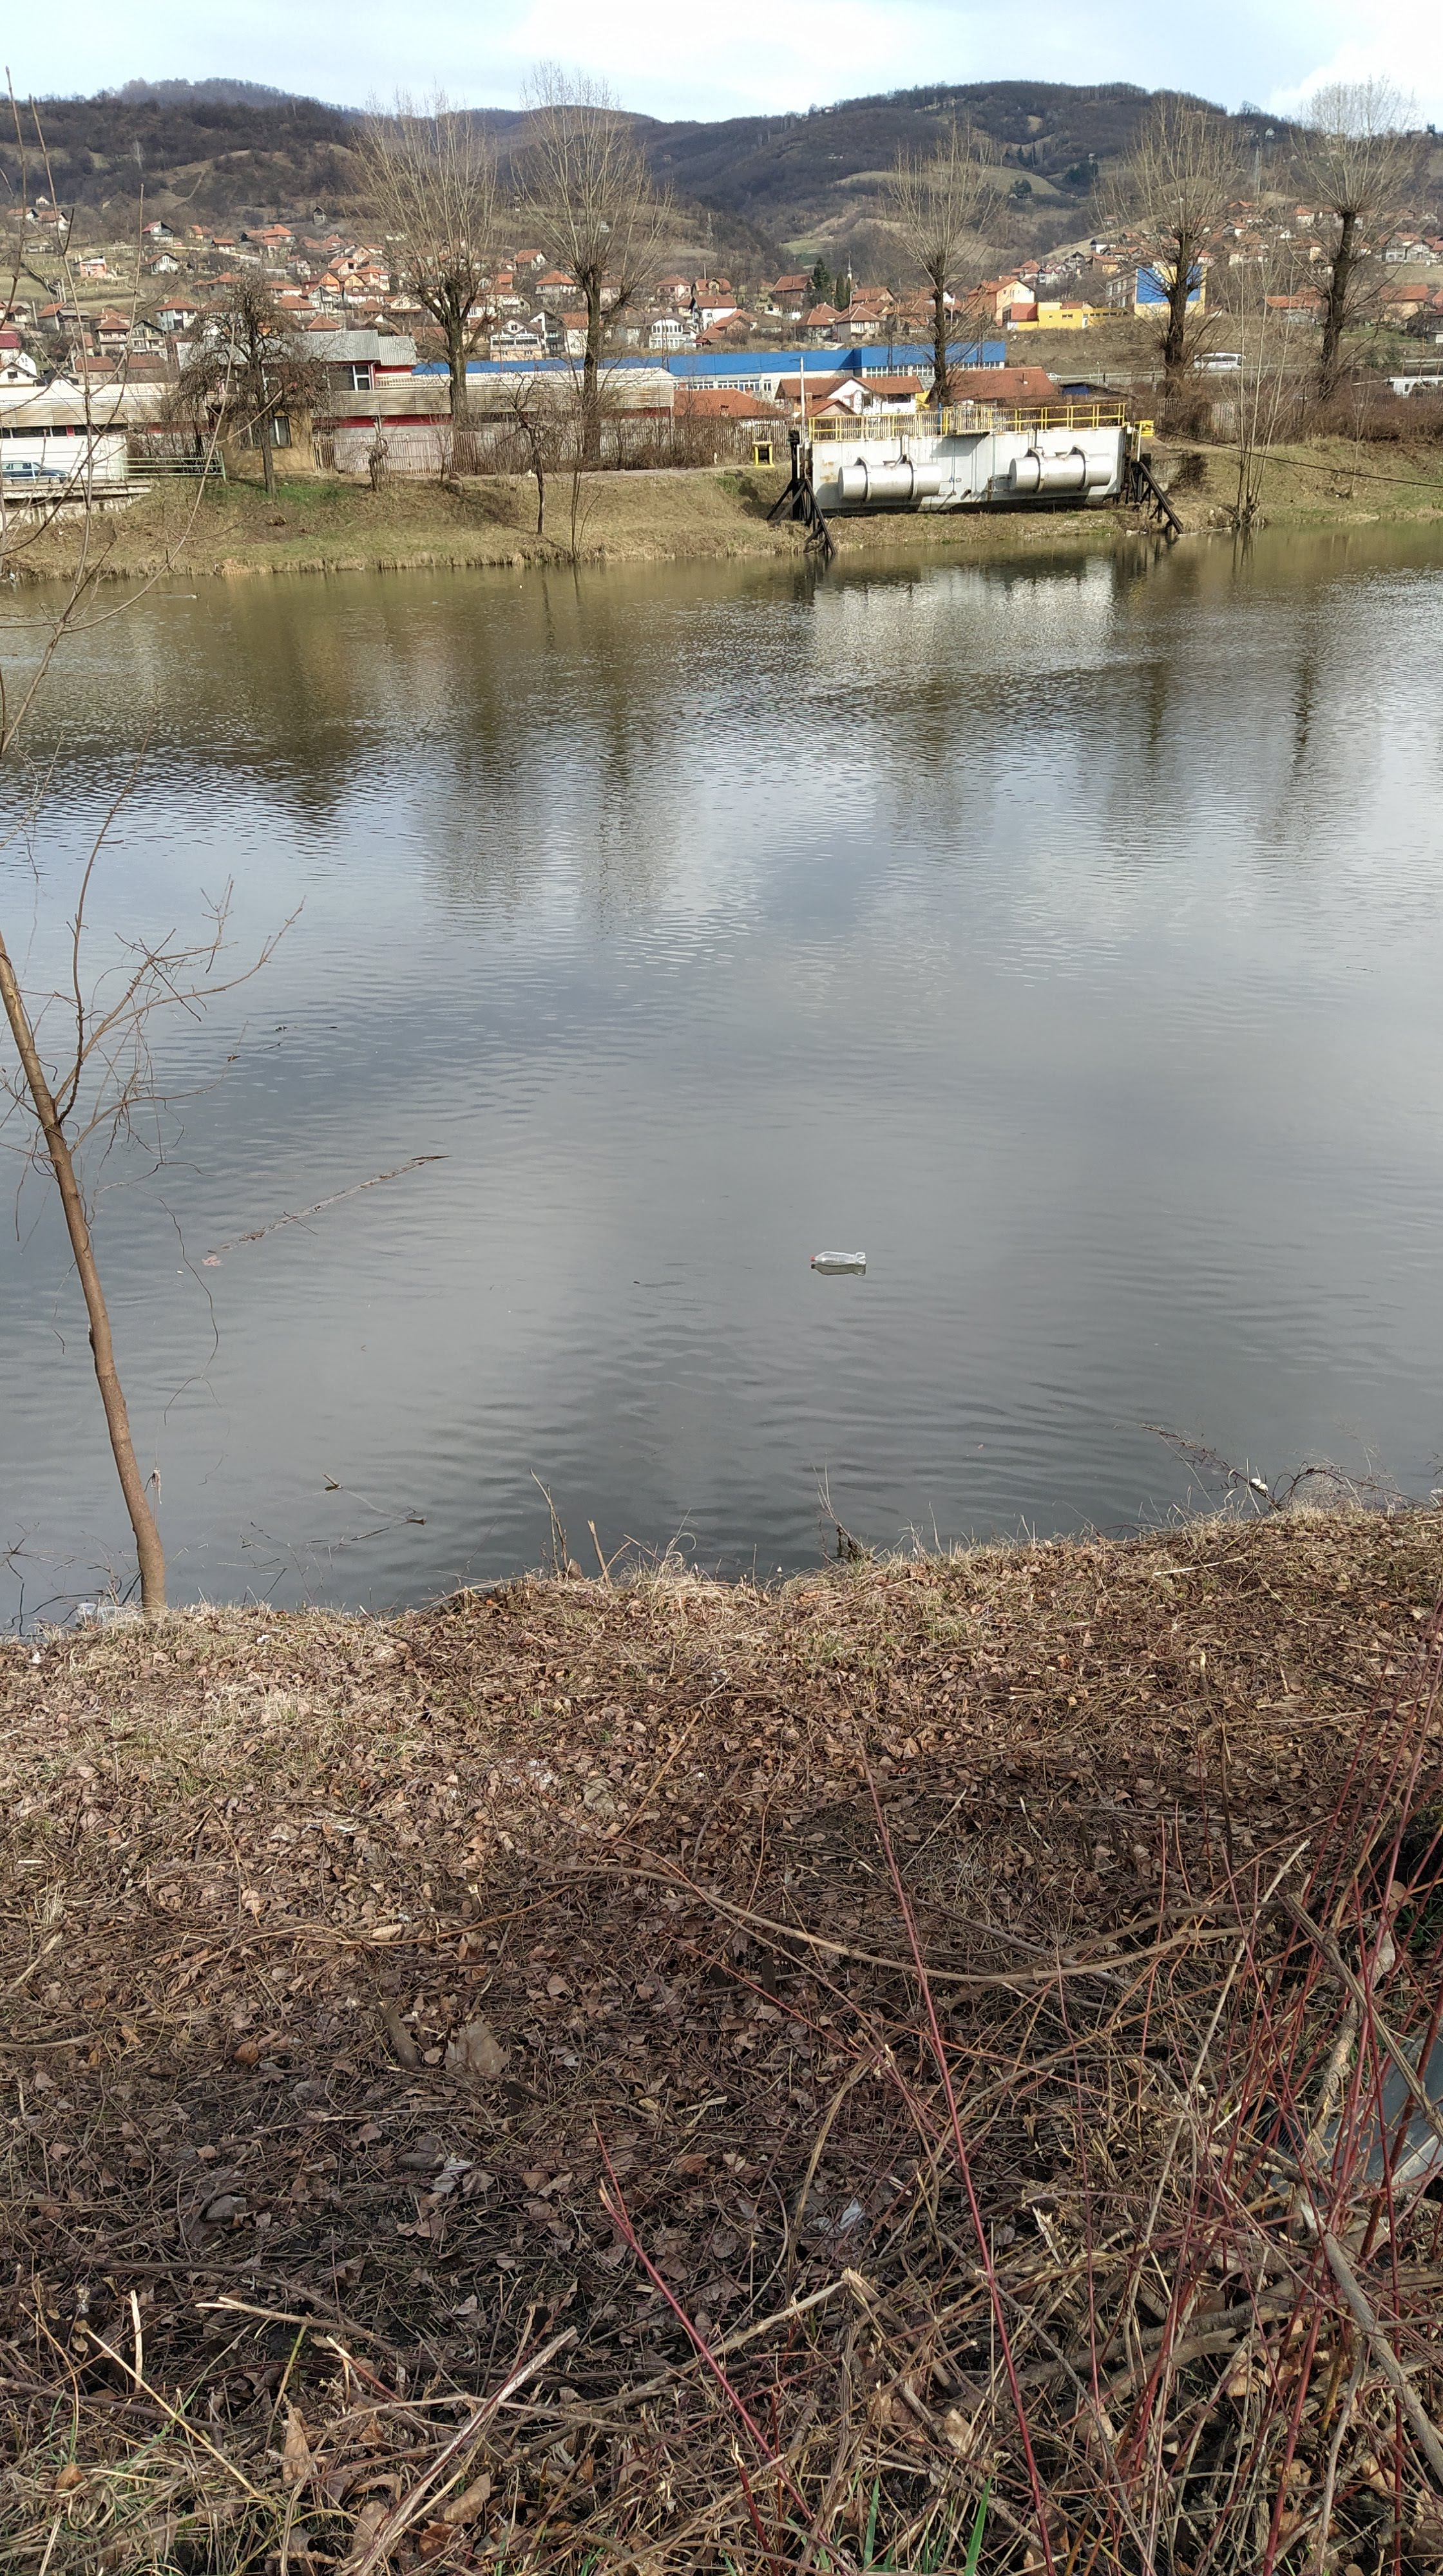Plastic Bottle: (74, 1601, 138, 1622), (809, 1251, 866, 1265)
